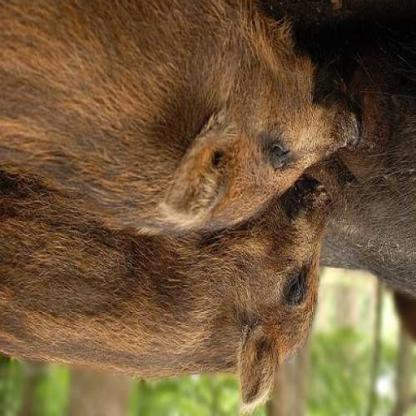boar: (1, 1, 373, 242), (0, 164, 352, 407)
